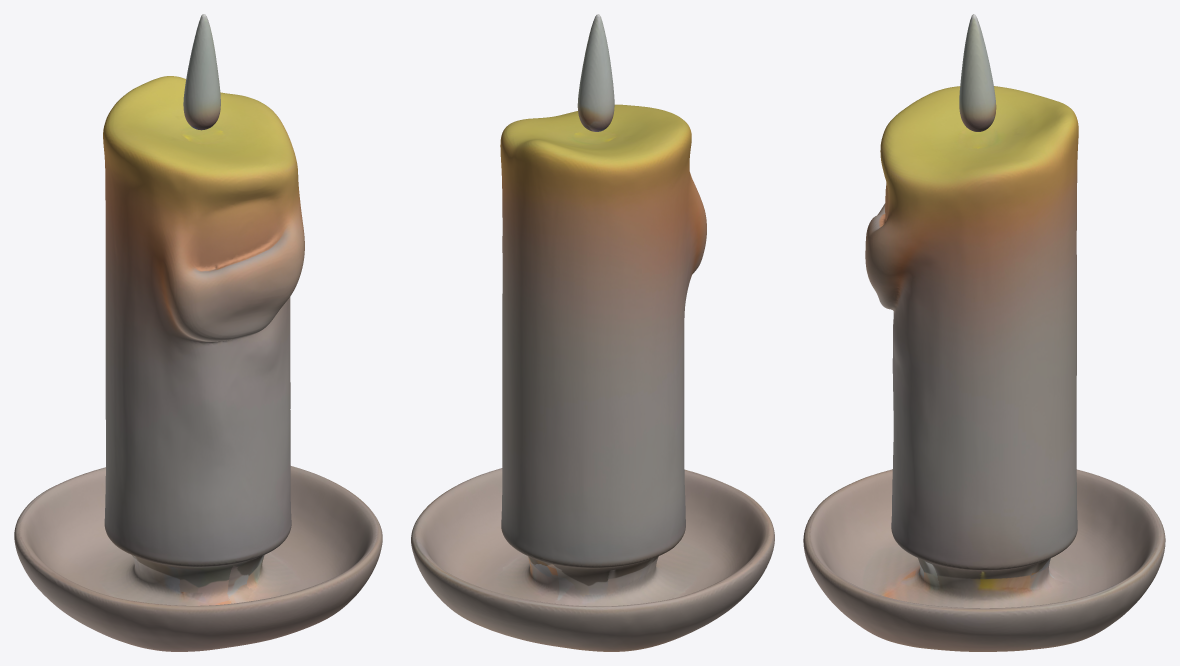
The model's file is candle-02.glb.
The picture shows the model from 3 angles, left to right: view 1: azimuth 30°, elevation 25°; view 2: azimuth 150°, elevation 25°; view 3: azimuth 270°, elevation 25°; orthographic projection.
Parts seen in each view (by area): view 1: tripo_node_5d9fc05e-f41e-40af-a1ca-6e82b026b01f; view 2: tripo_node_5d9fc05e-f41e-40af-a1ca-6e82b026b01f; view 3: tripo_node_5d9fc05e-f41e-40af-a1ca-6e82b026b01f.
Part boxes in pixels (<box>): tripo_node_5d9fc05e-f41e-40af-a1ca-6e82b026b01f: <box>14,14,382,651</box>; tripo_node_5d9fc05e-f41e-40af-a1ca-6e82b026b01f: <box>411,14,774,651</box>; tripo_node_5d9fc05e-f41e-40af-a1ca-6e82b026b01f: <box>803,14,1165,651</box>.
Bounding box in the file's own units: 0.5316 × 0.9488 × 0.5312.
Materials: 1 (1 with a texture image).
